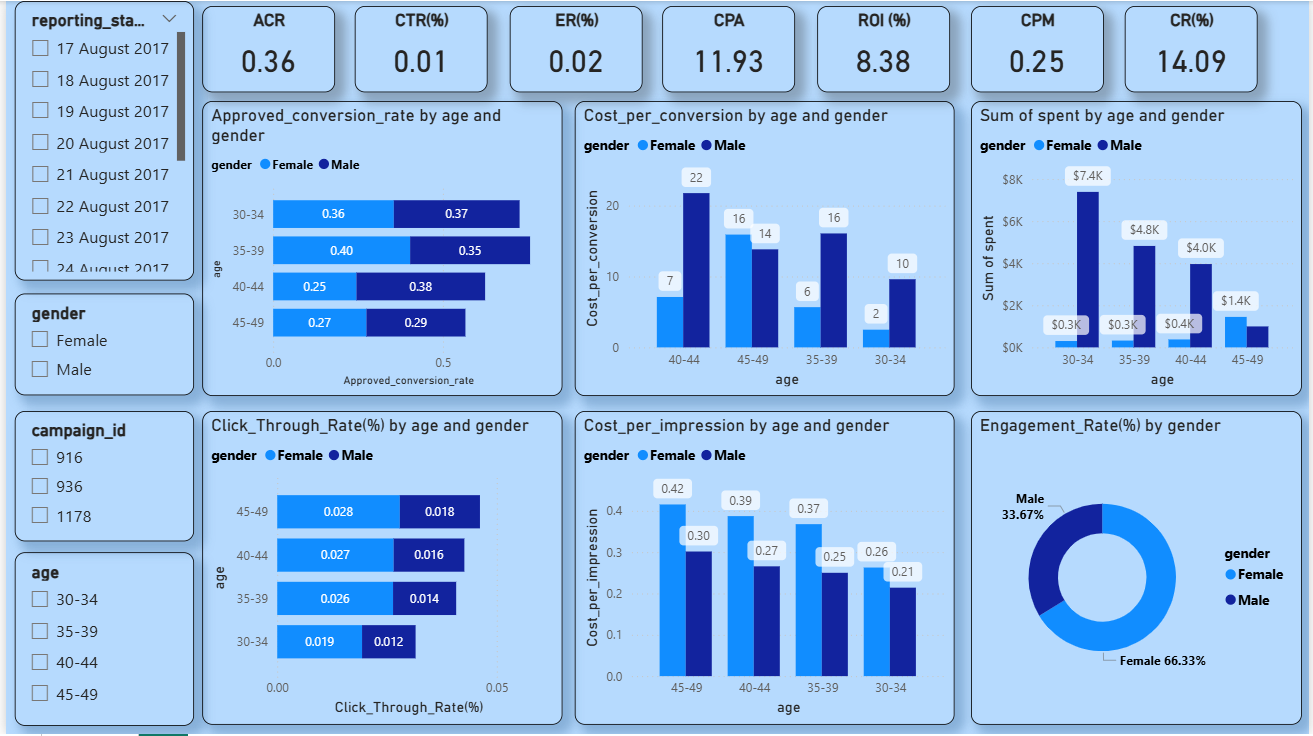

What the dashboard file says about the page in this screenshot:
{"tool":"powerbi","page":{"name":"Page 2","canvas":[1280,720],"ordinal":1},"visuals":[{"type":"slicer","fields":{"Values":["data.reporting_start"]},"box":[8.2,0,175.6,274.4],"z":0},{"type":"slicer","fields":{"Values":["data.gender"]},"box":[8.2,286.8,175.6,100.2],"z":1000},{"type":"slicer","fields":{"Values":["data.campaign_id"]},"box":[8.2,402.1,175.6,127.6],"z":2000},{"type":"slicer","fields":{"Values":["data.age"]},"box":[8.2,540.7,175.6,170.2],"z":3000},{"type":"barChart","fields":{"Y":["data.Approved_conversion_rate"],"Category":["data.age"],"Series":["data.gender"]},"box":[192.6,98.2,353.4,289.6],"z":4000},{"type":"barChart","fields":{"Category":["data.age"],"Y":["data.Click_Through_Rate%"],"Series":["data.gender"]},"box":[192.6,402.5,353.4,308],"z":5000},{"type":"card","title":"ACR","fields":{"Values":["data.Approved_conversion_rate"]},"box":[192.6,4.9,130.1,84.7],"z":6000},{"type":"card","title":"CTR(%)","fields":{"Values":["data.Click_Through_Rate"]},"box":[342,4.9,130.1,84.7],"z":7000},{"type":"card","title":"ER(%)","fields":{"Values":["data.Engagement_Rate(%)"]},"box":[494,4.9,130.1,84.7],"z":8000},{"type":"card","title":"CPA","fields":{"Values":["data.Cost_per_conversion"]},"box":[644,4.9,130.1,84.7],"z":9000},{"type":"card","title":"ROI (%)","fields":{"Values":["data.Return_on_investment"]},"box":[796,4.9,130.1,84.7],"z":10000},{"type":"card","title":"CPM","fields":{"Values":["data.Cost_per_impression"]},"box":[947,4.9,130.1,84.7],"z":11000},{"type":"card","title":"CR(%)","fields":{"Values":["data.Conversion_rate"]},"box":[1098,4.9,130.1,84.7],"z":12000},{"type":"lineClusteredColumnComboChart","fields":{"Category":["data.age"],"Y":["data.Cost_per_conversion"],"Series":["data.gender"]},"box":[558.3,98.2,373,289.6],"z":13000},{"type":"lineClusteredColumnComboChart","fields":{"Category":["data.age"],"Series":["data.gender"],"Y":["data.Cost_per_impression"]},"box":[558.3,402.5,373,308],"z":14000},{"type":"lineClusteredColumnComboChart","fields":{"Category":["data.age"],"Series":["data.gender"],"Y":["Sum(data.spent)"]},"box":[947.2,98.2,325.2,289.6],"z":15000},{"type":"donutChart","fields":{"Category":["data.gender"],"Y":["data.Engagement_Rate(%)"]},"box":[947,402,325,308],"z":16000}]}

Visuals, with their boxes in screenshot pixels (x1, y1, x2, y2), scaled from the page's 1280x720 canvas onto the 1313x736 screenshot:
slicer - data.reporting_start: left=8, top=0, right=189, bottom=280
slicer - data.gender: left=8, top=293, right=189, bottom=396
slicer - data.campaign_id: left=8, top=411, right=189, bottom=541
slicer - data.age: left=8, top=553, right=189, bottom=727
barChart - data.Approved_conversion_rate x data.age: left=198, top=100, right=560, bottom=396
barChart - data.age x data.Click_Through_Rate%: left=198, top=411, right=560, bottom=726
"ACR" card: left=198, top=5, right=331, bottom=92
"CTR(%)" card: left=351, top=5, right=484, bottom=92
"ER(%)" card: left=507, top=5, right=640, bottom=92
"CPA" card: left=661, top=5, right=794, bottom=92
"ROI (%)" card: left=817, top=5, right=950, bottom=92
"CPM" card: left=971, top=5, right=1105, bottom=92
"CR(%)" card: left=1126, top=5, right=1260, bottom=92
lineClusteredColumnComboChart - data.age x data.Cost_per_conversion: left=573, top=100, right=955, bottom=396
lineClusteredColumnComboChart - data.age x data.gender: left=573, top=411, right=955, bottom=726
lineClusteredColumnComboChart - data.age x data.gender: left=972, top=100, right=1305, bottom=396
donutChart - data.gender x data.Engagement_Rate(%): left=971, top=411, right=1305, bottom=726
